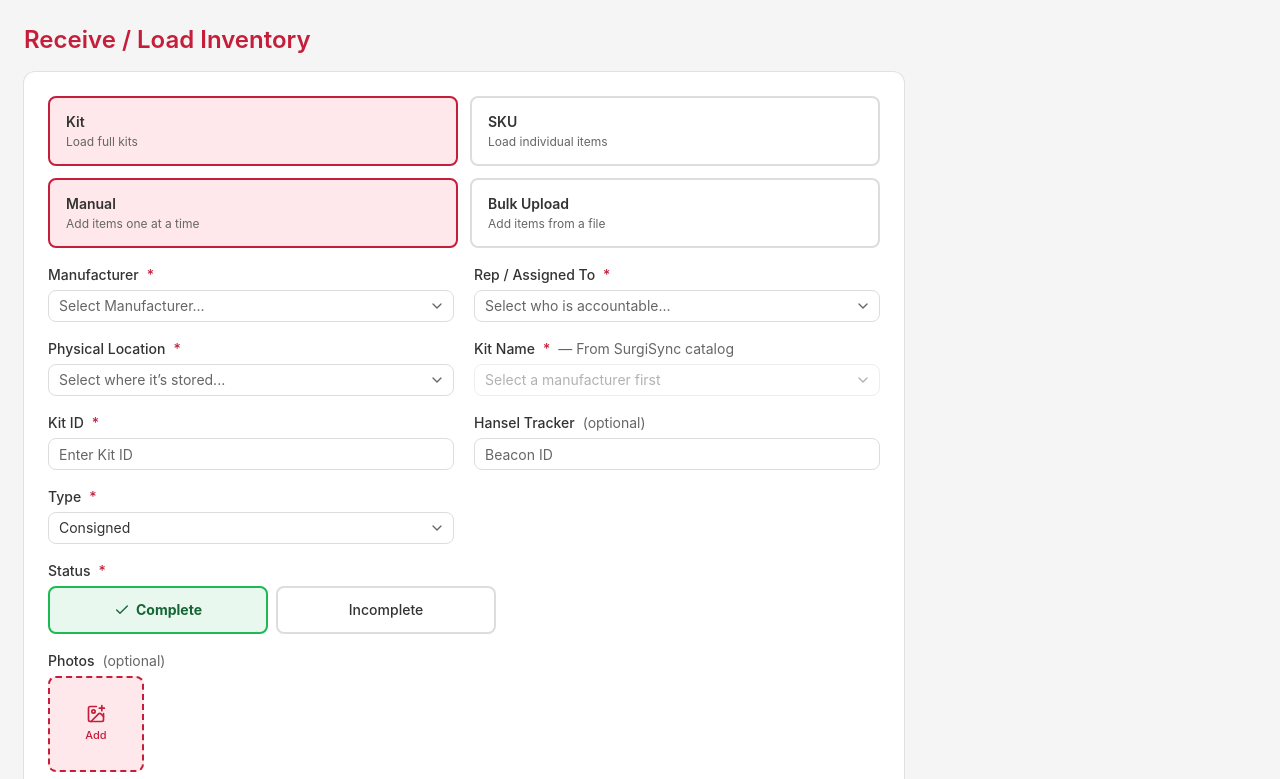
it: ReceiveScreen › returns to the form when Kit + Manual is chosen again
This screenshot has width=1280, height=779.
Click the radio button labelled "SKU Load individual items": (548, 142) [470,96,880,166]
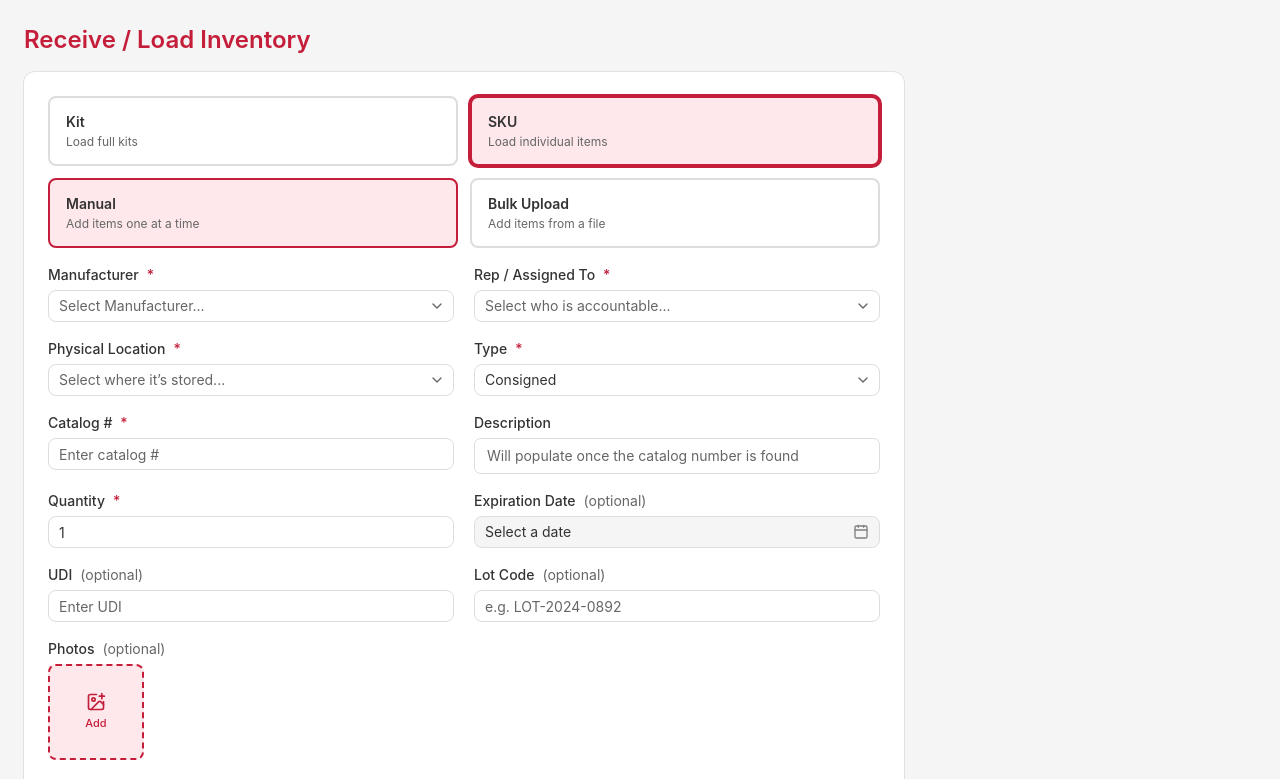
Click the radio button labelled "Kit Load full kits": (102, 142) [48,96,458,166]
(page scrolled)
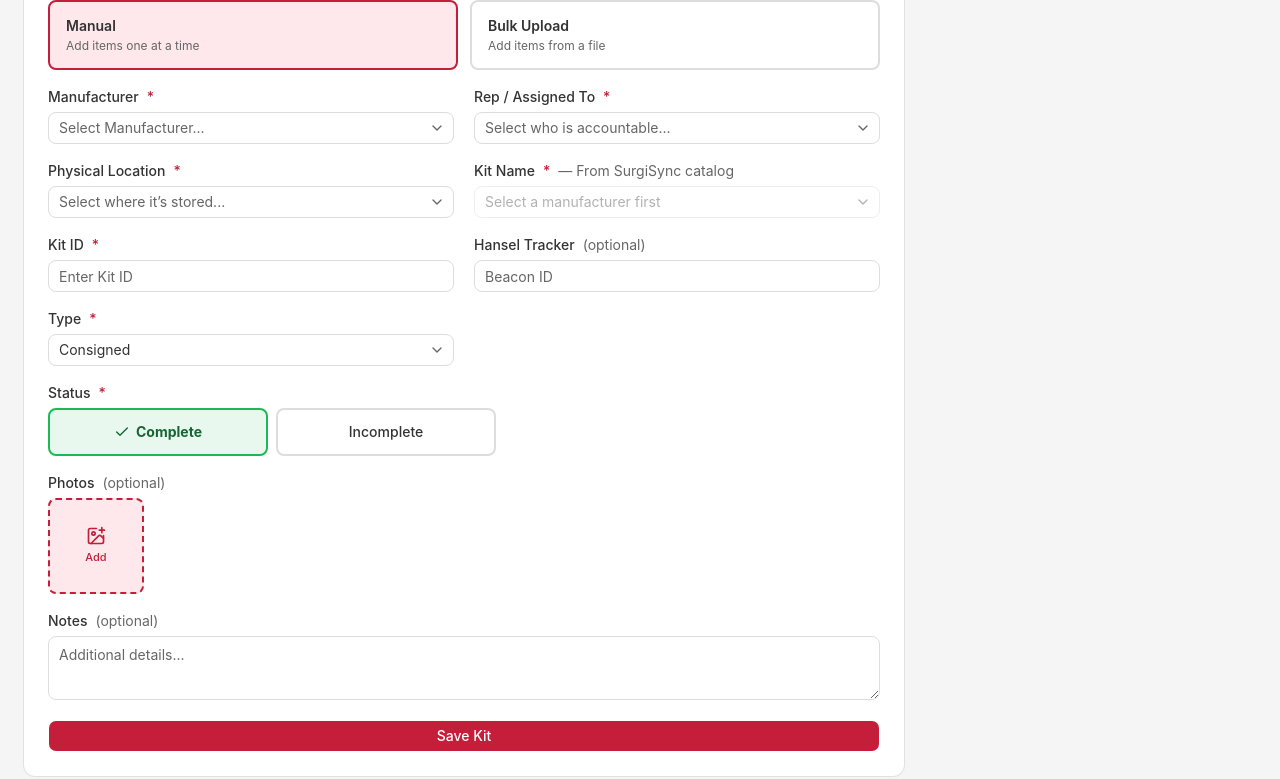
Expected: the button "Save Kit" is shown, [48,720,880,752]
